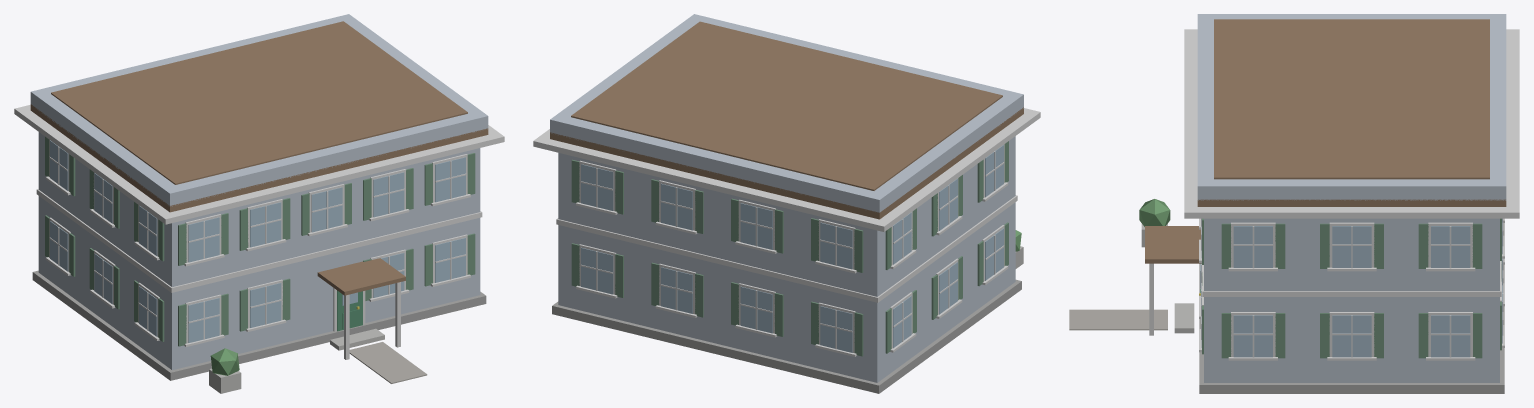
Rendered from Villa_20.glb.
3 renders of one model, left to right at view 1: azimuth 30°, elevation 25°; view 2: azimuth 150°, elevation 25°; view 3: azimuth 270°, elevation 25°, orthographic. The views are drawn at different scales.
Visible parts, largest first — view 1: Villa_20; view 2: Villa_20; view 3: Villa_20.
Boxes of the visible parts, left/top/right/bottom form: Villa_20: left=14, top=14, right=504, bottom=393; Villa_20: left=533, top=14, right=1040, bottom=393; Villa_20: left=1069, top=14, right=1519, bottom=393.
Size of the model in its own units: 13.2 by 7.05 by 13.7.
